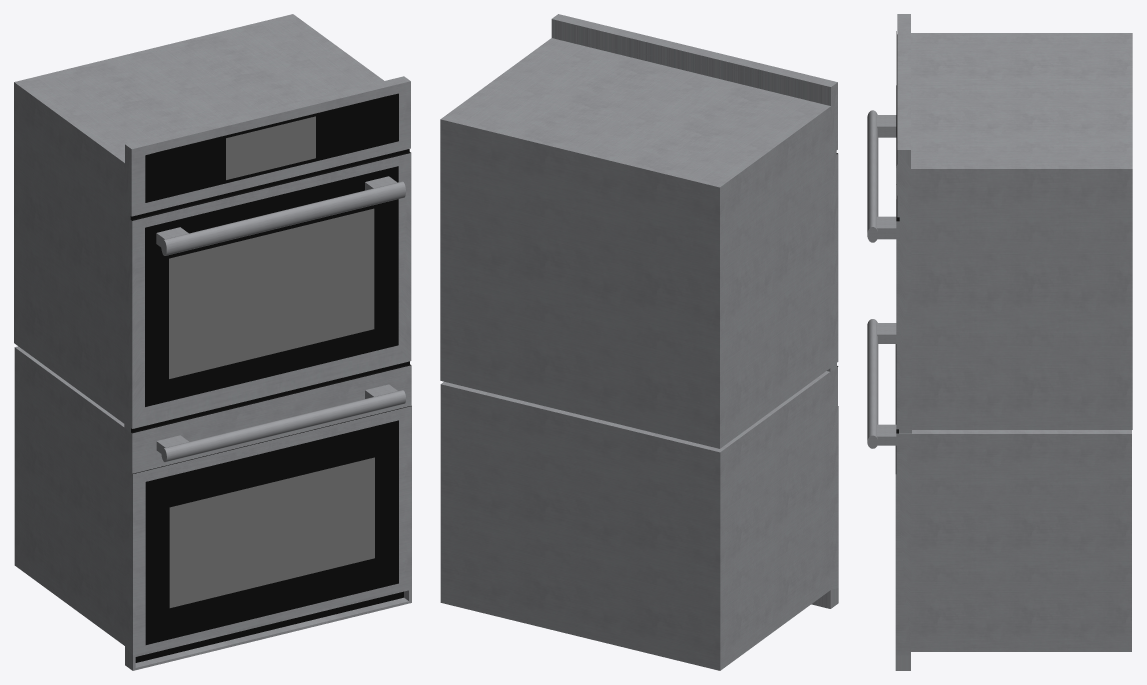
File: OVEN-DOUBLE_HBLP651UC.glb
3 renders of one model, left to right at view 1: azimuth 30°, elevation 25°; view 2: azimuth 150°, elevation 25°; view 3: azimuth 270°, elevation 25°, orthographic.
Visible parts, largest first — view 1: Oven_Double; view 2: Oven_Double; view 3: Oven_Double.
Boxes of the visible parts, <box> form: Oven_Double: <box>14,14,411,670</box>; Oven_Double: <box>440,14,838,670</box>; Oven_Double: <box>867,14,1132,670</box>.
Size of the model in its own units: 755 by 1346 by 622.
Materials: 3 (1 with a texture image).
